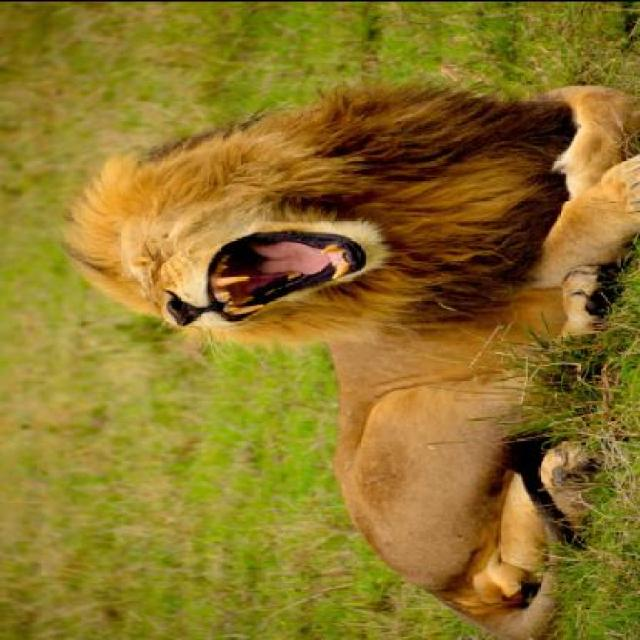Lion: (41, 62, 638, 636)
